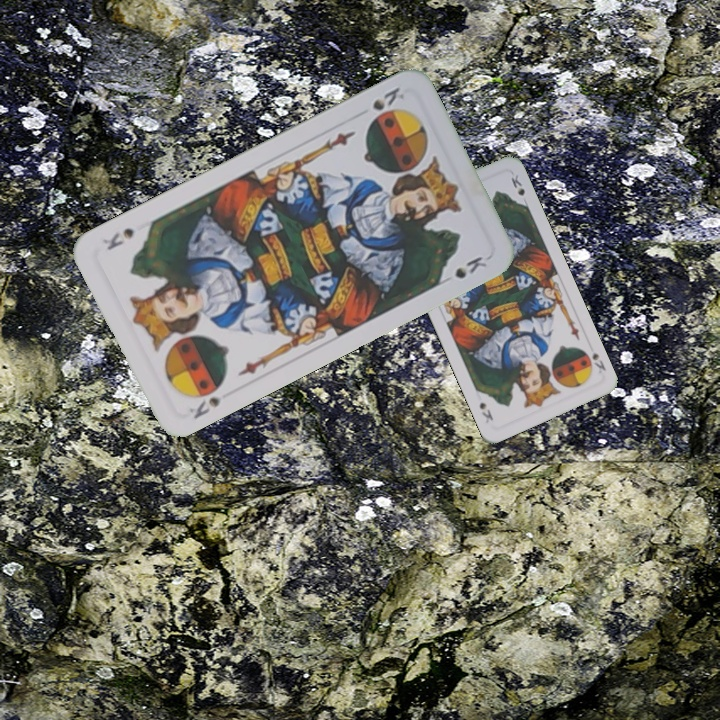SK: (368, 83, 407, 113), (185, 392, 223, 422), (584, 340, 608, 376)
